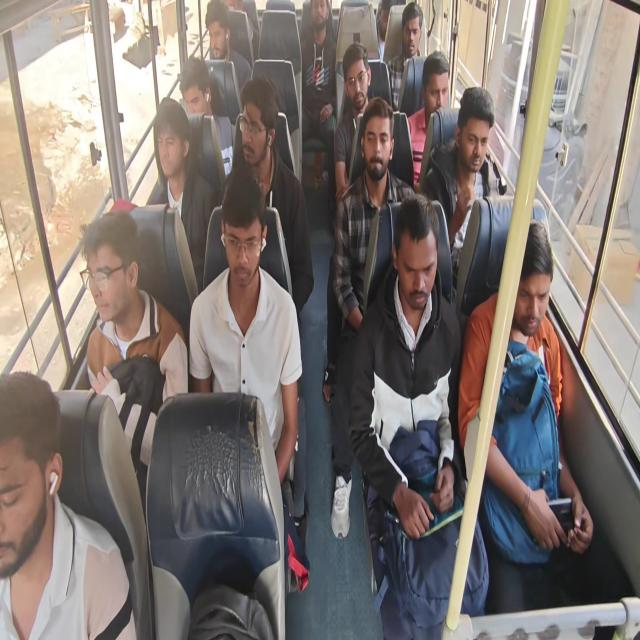person: (348, 193, 489, 638), (458, 218, 593, 612), (188, 163, 304, 519), (323, 96, 416, 539), (0, 369, 137, 639), (79, 209, 188, 519), (219, 75, 314, 319), (146, 96, 217, 293), (422, 86, 495, 271), (300, 0, 337, 186), (179, 57, 234, 177), (333, 42, 372, 204), (406, 50, 450, 187), (203, 0, 251, 95), (387, 1, 423, 110), (375, 0, 405, 62)
